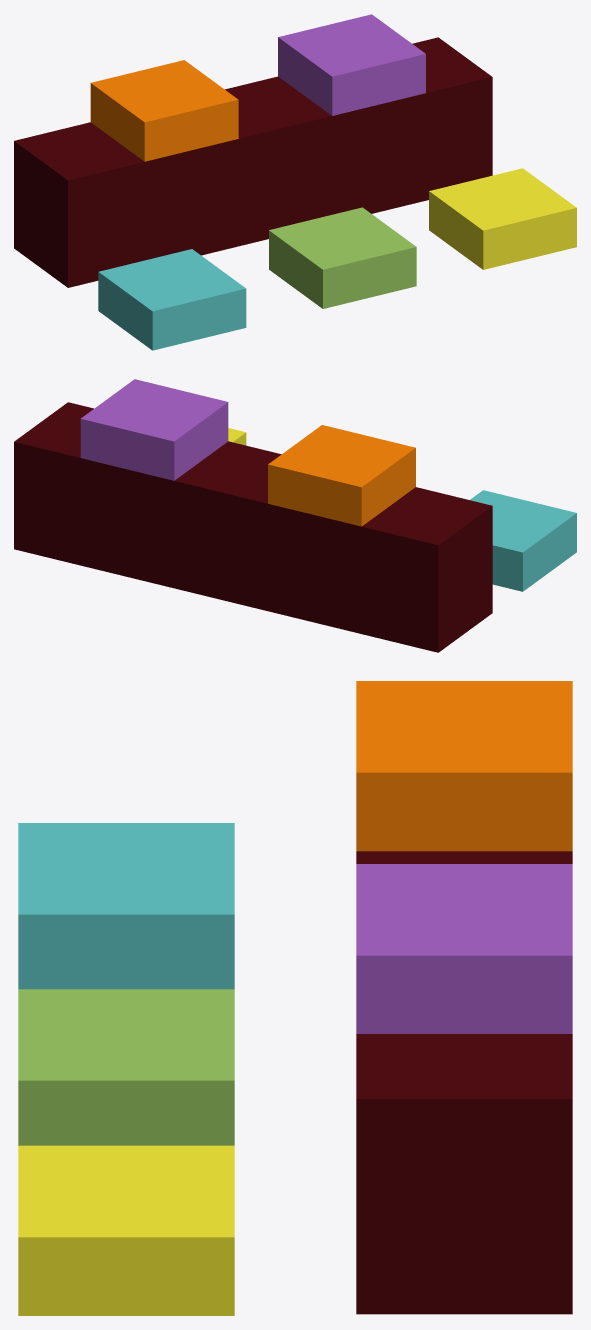
File: bases.fbx
The picture shows the model from 3 angles, top to bottom: view 1: azimuth 30°, elevation 25°; view 2: azimuth 150°, elevation 25°; view 3: azimuth 270°, elevation 25°; orthographic projection. The views are drawn at different scales.
Parts seen in each view (by area): view 1: Poyete, Bases_2, Bases_1, Bases_5, Bases_4, Bases_3; view 2: Poyete, Bases_4, Bases_1, Bases_2; view 3: Poyete, Bases_1, Bases_5, Bases_4, Bases_2, Bases_3.
Part boxes in pixels (box(x1,y1,x2,y2)): Poyete: box(14, 37, 492, 287); Bases_2: box(98, 249, 246, 350); Bases_1: box(90, 60, 238, 161); Bases_5: box(429, 168, 576, 269); Bases_4: box(278, 14, 425, 115); Bases_3: box(269, 207, 416, 308); Poyete: box(14, 402, 492, 652); Bases_4: box(80, 379, 228, 480); Bases_1: box(268, 425, 415, 526); Bases_2: box(470, 490, 576, 591); Poyete: box(356, 851, 572, 1314); Bases_1: box(356, 681, 572, 851); Bases_5: box(18, 1145, 234, 1315); Bases_4: box(356, 864, 572, 1033); Bases_2: box(18, 823, 234, 989); Bases_3: box(18, 989, 234, 1145).
Size of the model in its own units: 115 by 38.09 by 64.78.
